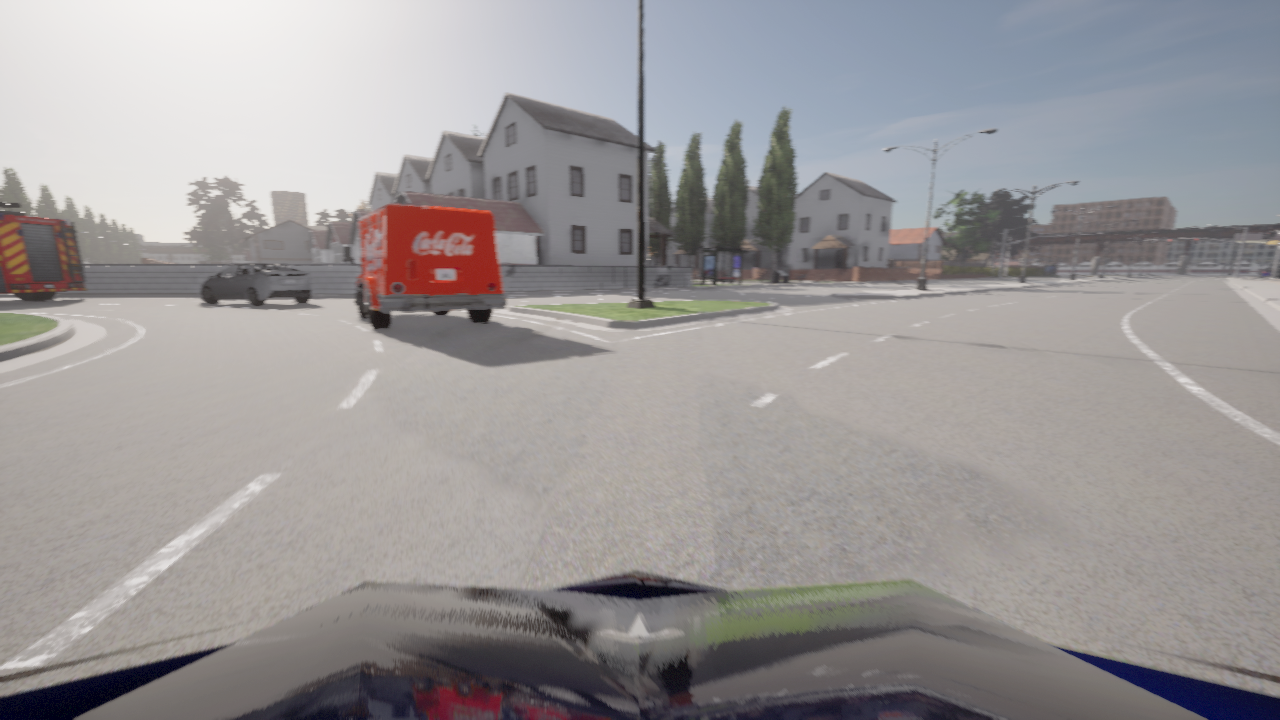cyclist: (0, 569, 1279, 719), (343, 203, 506, 328), (200, 263, 312, 306), (1260, 268, 1273, 277)
